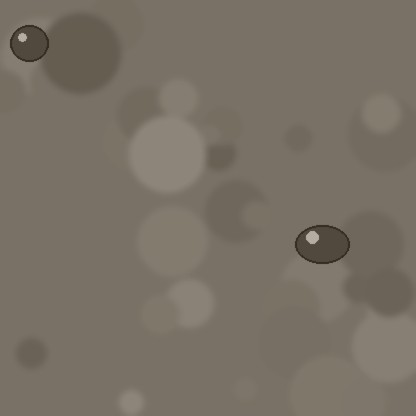gota: (295, 226, 349, 266), (10, 26, 48, 64)
